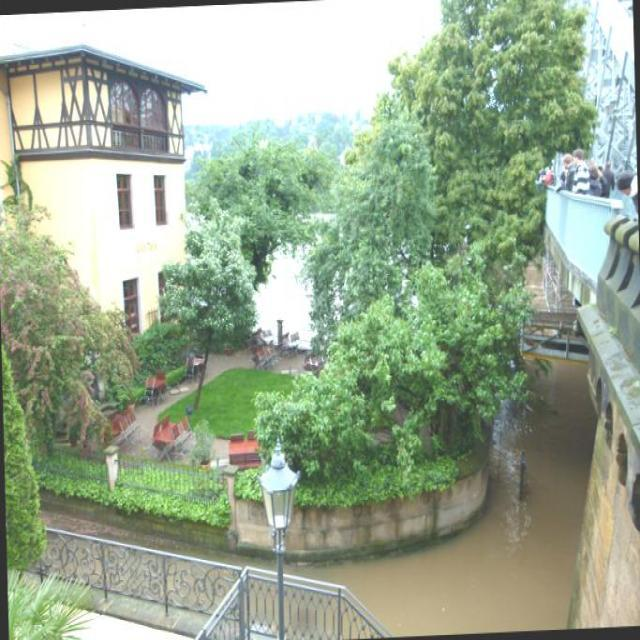flood: (342, 329, 598, 639)
